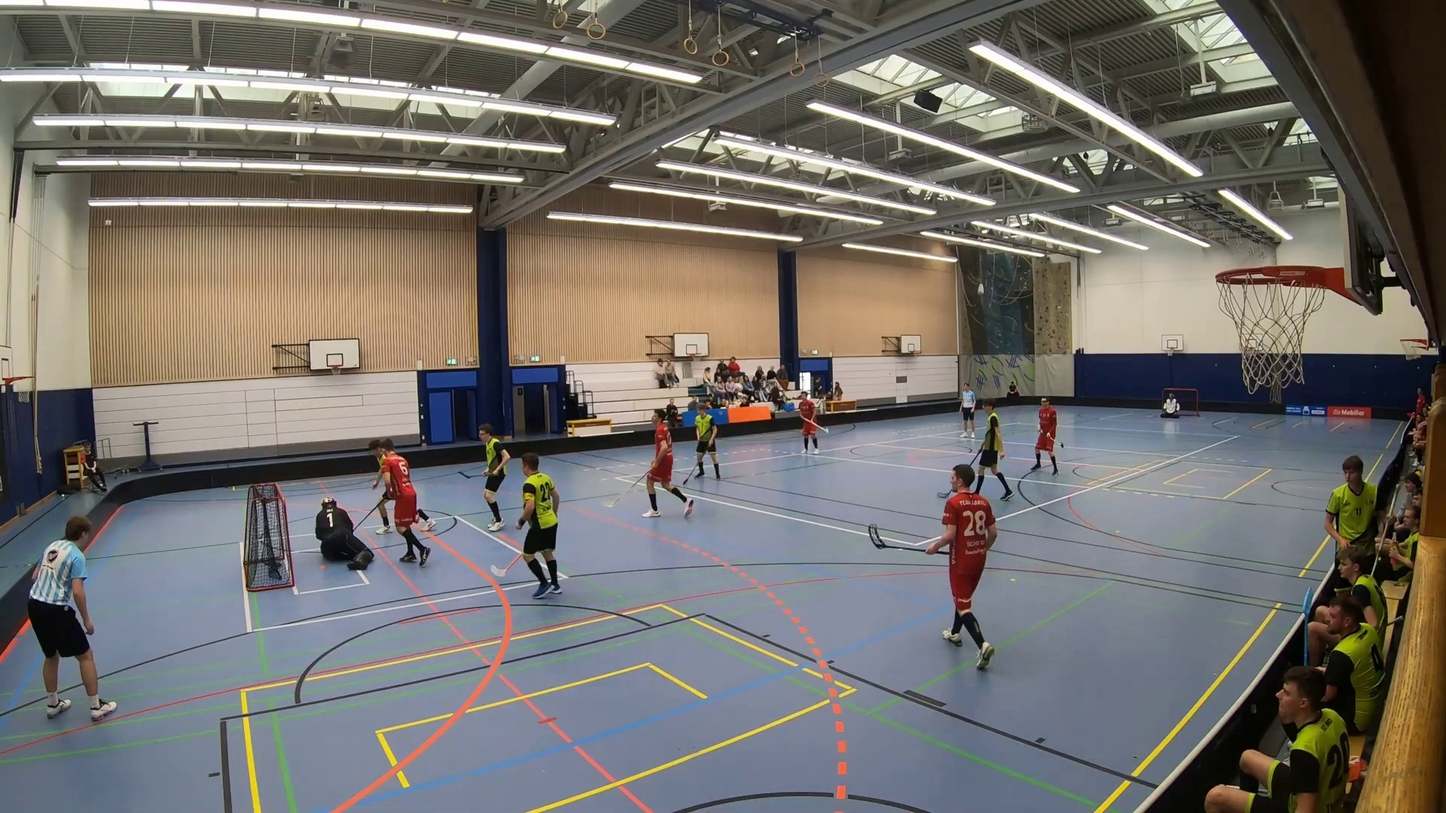Schiri: (15, 522, 159, 738), (952, 380, 981, 440)
goalkeeper: (296, 485, 372, 584), (1155, 389, 1183, 422)
player: (854, 459, 1010, 682), (485, 449, 578, 605), (596, 405, 700, 521), (371, 438, 443, 572), (351, 434, 440, 536), (945, 396, 1020, 507), (451, 419, 513, 540), (784, 379, 838, 465), (682, 397, 729, 488), (1024, 389, 1069, 481)
